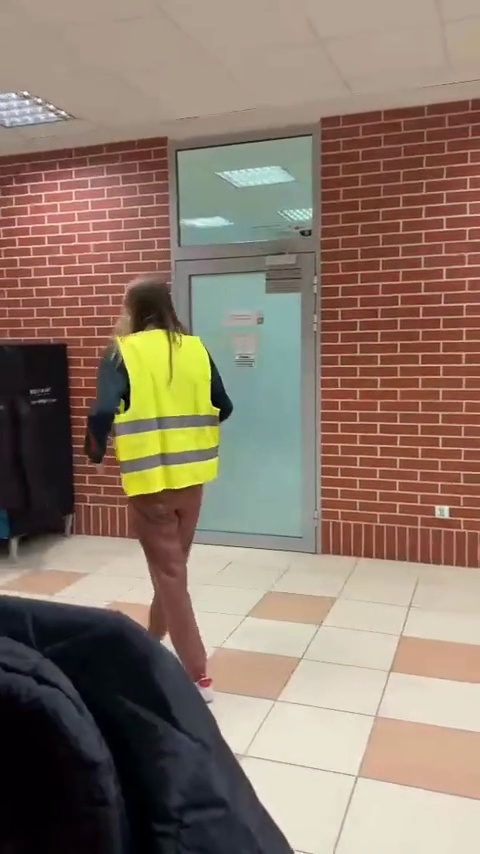vest: (77, 279, 236, 709)
